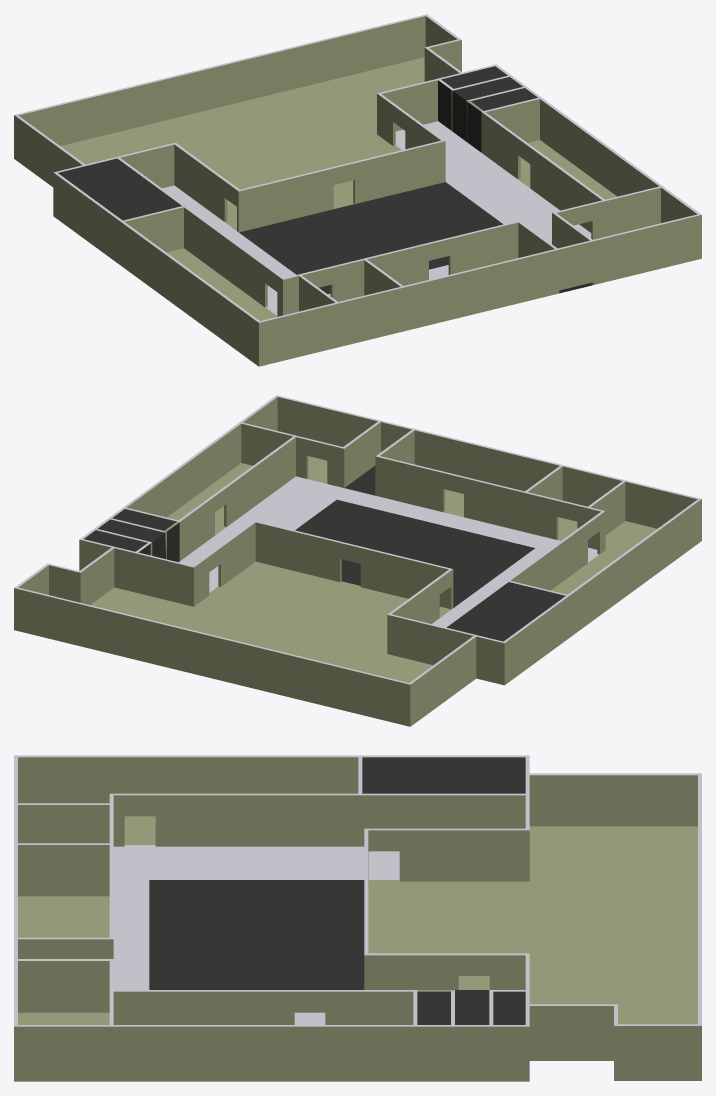
Rendered from 3_floor.glb.
3 views of the same model, one above another, from view 1: azimuth 30°, elevation 25°; view 2: azimuth 150°, elevation 25°; view 3: azimuth 270°, elevation 25° (orthographic). The views are drawn at different scales.
Visible parts, largest first — view 1: Box454, Line042, Box423, Box424, Box468, Line043, Box463, Box425, Box432, Box460, Box420, Box469 (+35 smaller); view 2: Box454, Box463, Box423, Line043, Box424, Box425, Box468, Line042, Box460, Box420, Box471, Box432 (+35 smaller); view 3: Line042, Box423, Box463, Line043, Box460, Box462, Box469, Box442, Box447, Box434, Box420, Box428 (+30 smaller).
Part boxes in pixels (x1,y1,x2,y2): Box454: [18, 16, 425, 145]; Line042: [14, 57, 437, 186]; Box423: [239, 182, 503, 294]; Box424: [261, 250, 556, 362]; Box468: [237, 141, 445, 232]; Line043: [162, 121, 591, 315]; Box463: [197, 118, 401, 230]; Box425: [284, 222, 518, 314]; Box432: [594, 215, 699, 281]; Box460: [123, 224, 219, 337]; Box420: [58, 158, 181, 220]; Box469: [174, 144, 236, 221]; Box454: [14, 588, 407, 726]; Box463: [171, 561, 451, 669]; Box423: [295, 499, 534, 607]; Line043: [179, 476, 599, 626]; Box424: [414, 430, 697, 528]; Box425: [378, 457, 600, 549]; Box468: [255, 522, 453, 608]; Line042: [90, 587, 476, 726]; Box460: [571, 527, 663, 635]; Box420: [447, 582, 565, 641]; Box471: [114, 548, 194, 606]; Box432: [277, 397, 377, 446]; Line042: [529, 826, 697, 1024]; Box423: [149, 880, 364, 989]; Box463: [368, 880, 581, 1004]; Line043: [113, 845, 399, 1024]; Box460: [113, 757, 358, 793]; Box462: [529, 775, 697, 826]; Box469: [368, 830, 526, 881]; Box442: [290, 1026, 417, 1081]; Box447: [113, 795, 251, 846]; Box434: [113, 1026, 224, 1081]; Box420: [362, 757, 525, 793]; Box428: [14, 1026, 113, 1081].
Bounding box in the file's own units: 47605 × 4501 × 51058.
